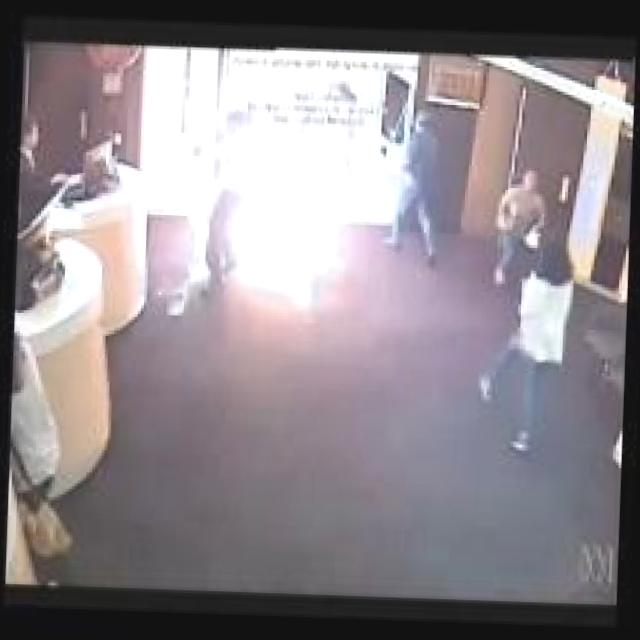fire: (187, 119, 354, 324)
